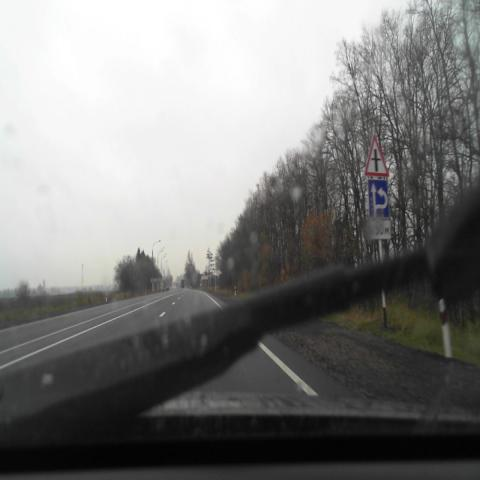8_1_1: (368, 218, 390, 239)
